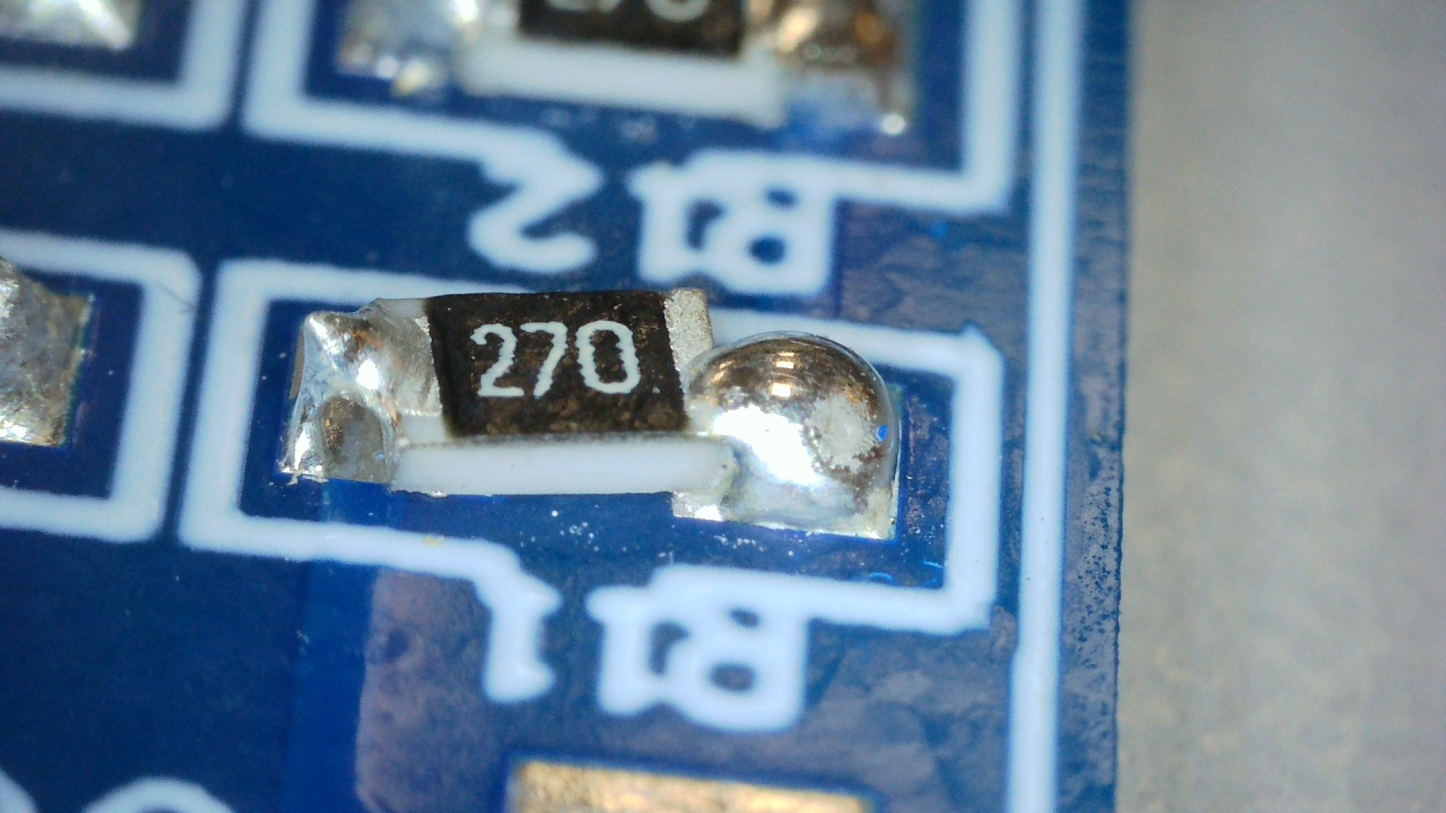NG: (663, 289, 900, 541), (285, 300, 441, 486)
